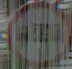Heavy Vehicles: (5, 5, 61, 50)
